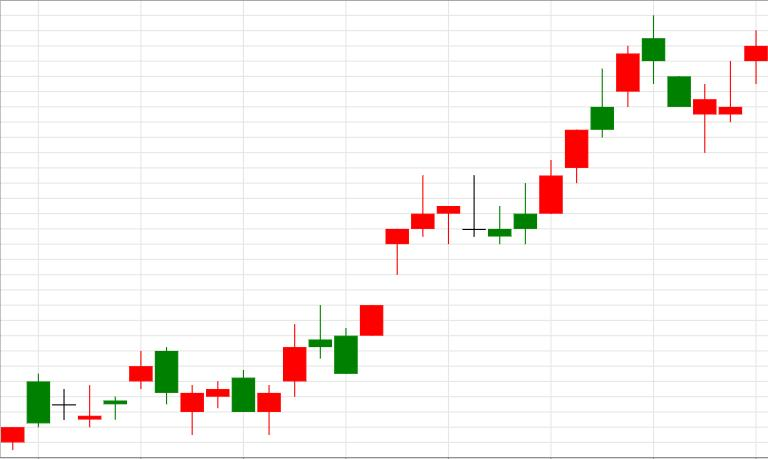bearish_engulfing_fall: (79, 346, 178, 428)
shooting_star_fall: (488, 68, 614, 245)
